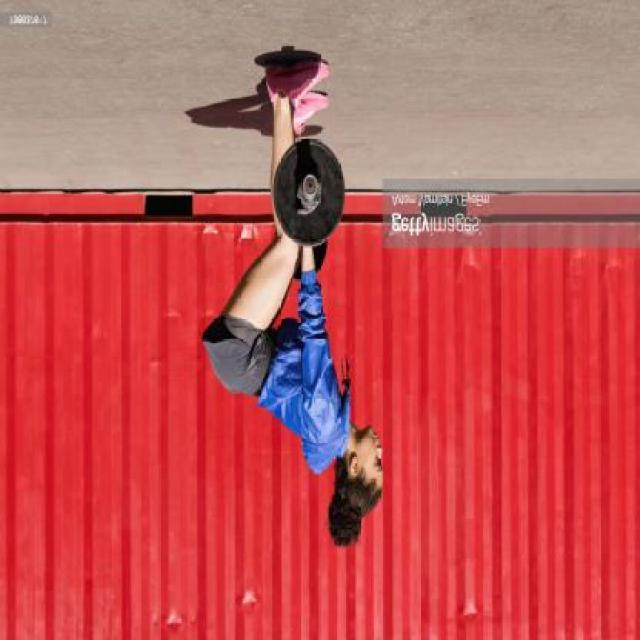Barbell: (301, 173, 321, 209)
